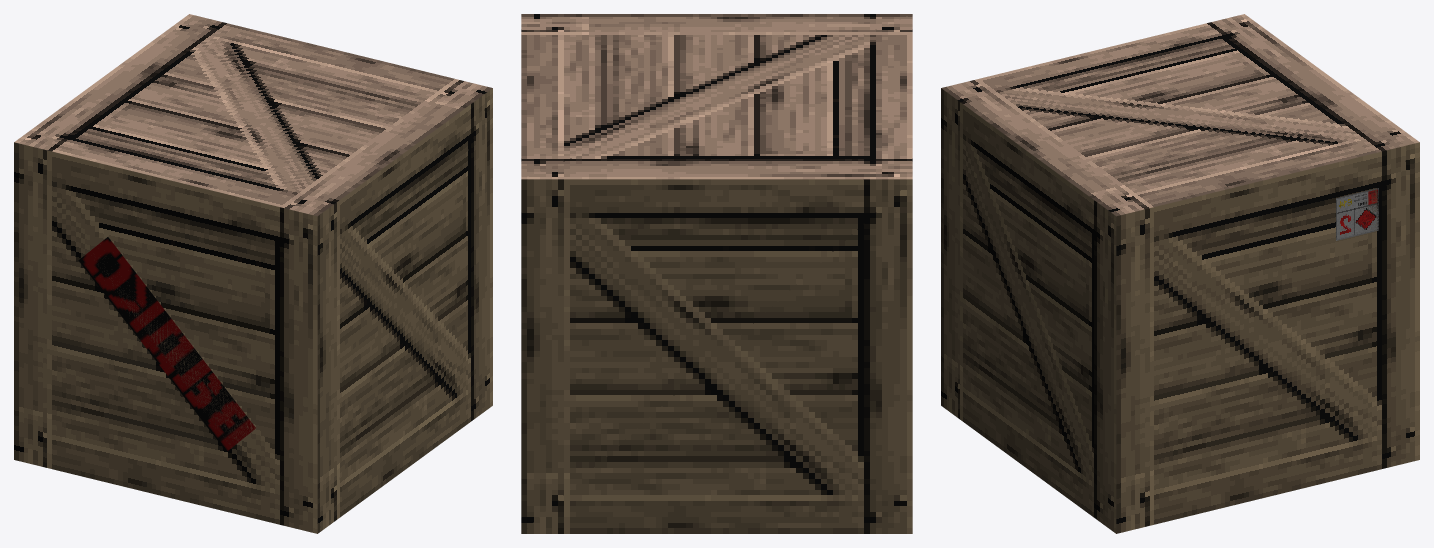
File: primary_080.glb
The picture shows the model from 3 angles, left to right: view 1: azimuth 30°, elevation 25°; view 2: azimuth 150°, elevation 25°; view 3: azimuth 270°, elevation 25°; orthographic projection. The views are drawn at different scales.
Visible parts, largest first — view 1: Object; view 2: Object; view 3: Object.
Boxes of the visible parts, x1,y1,x2,y2 form: Object: [14, 14, 492, 533]; Object: [521, 14, 912, 533]; Object: [941, 14, 1419, 533].
Size of the model in its own units: 1.42 by 1.04 by 1.42.
7 materials, 7 textured.
